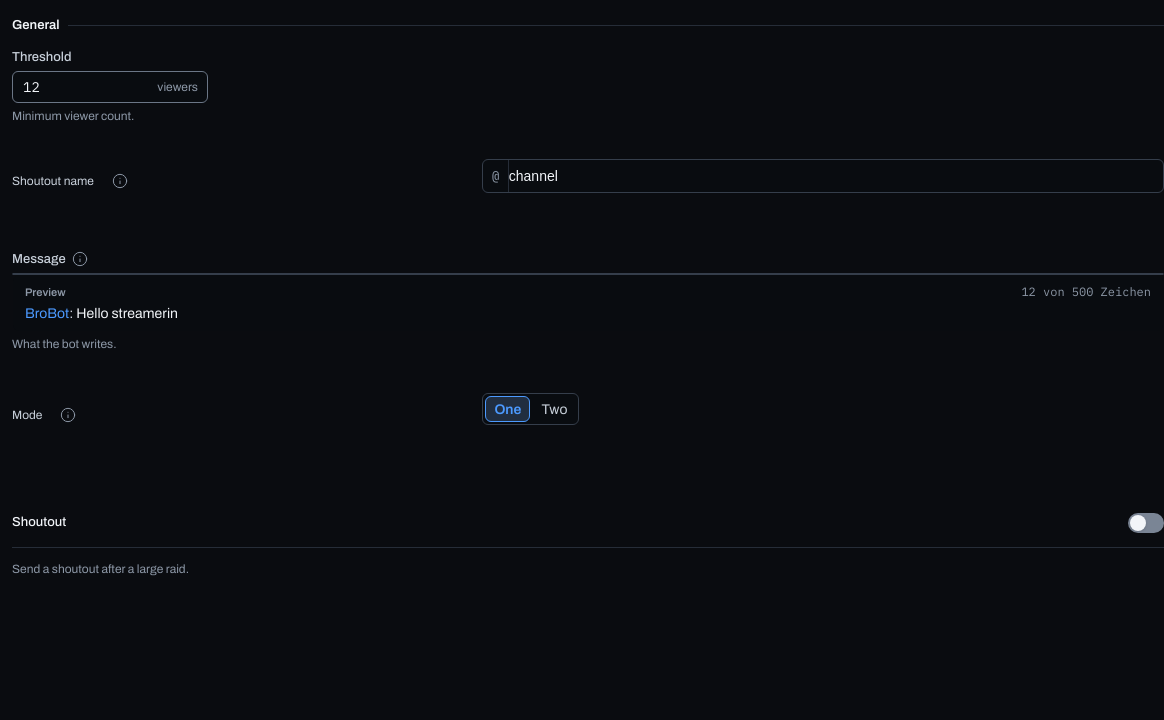
it: EditorShell and declaration renderer › renders settings from a typed declaration and catalogue with helper descriptions on every field
Expected: the text "Minimum viewer count." is shown, [12,109,134,123]
Expected: the text "Send a shoutout after a large raid." is shown, [12,547,1163,578]
Click the switch named "Shoutout": (1146, 523) [1128,513,1163,533]
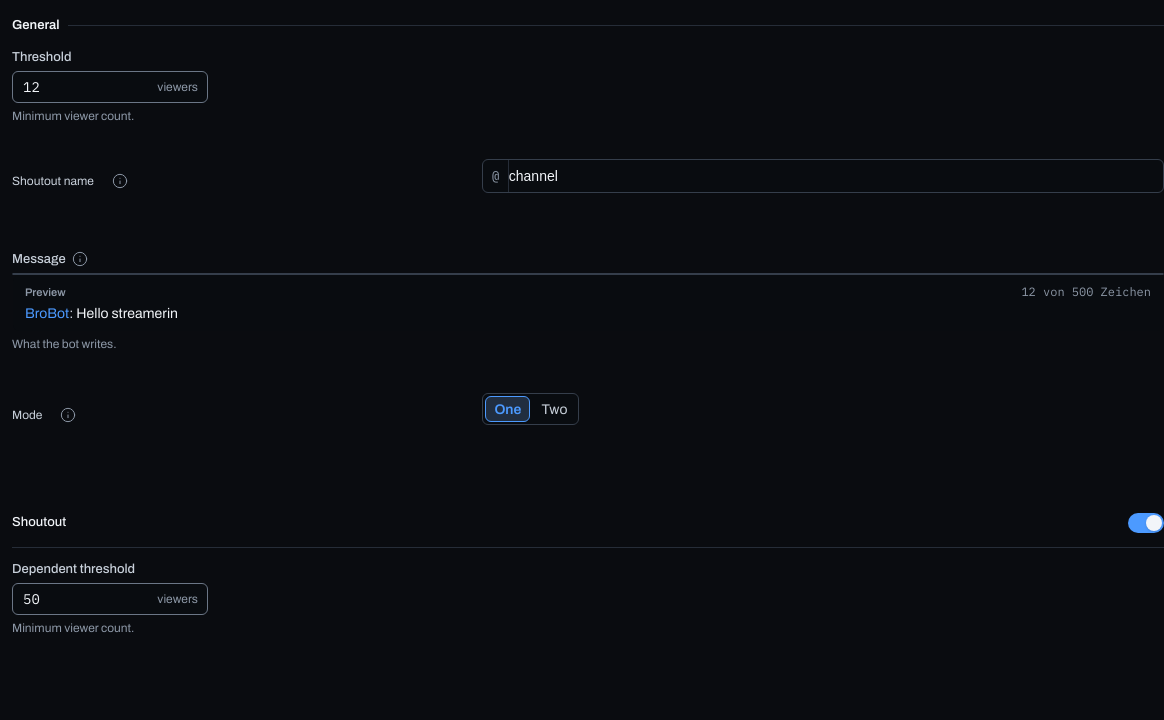
Expected: the text "Minimum viewer count." is shown 2 times, [12,109,134,123]; [12,621,134,635]
Expected: the number field labelled "Dependent threshold" is shown, [12,583,208,615]
